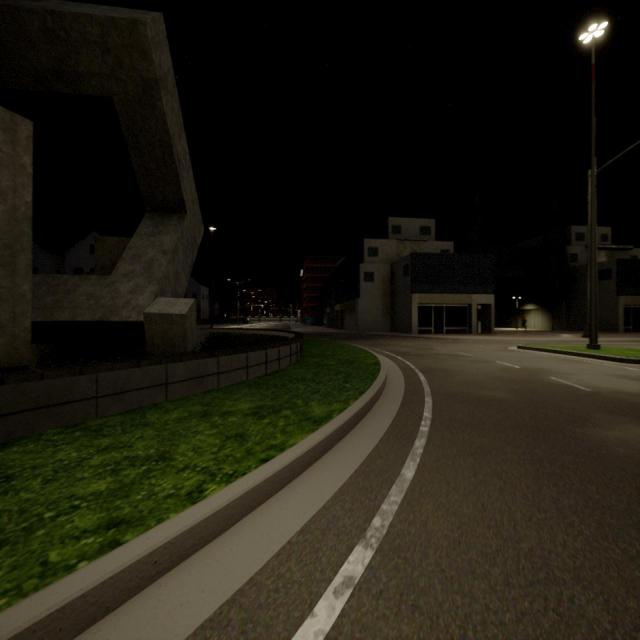Pedestrian: (521, 312, 527, 330)
